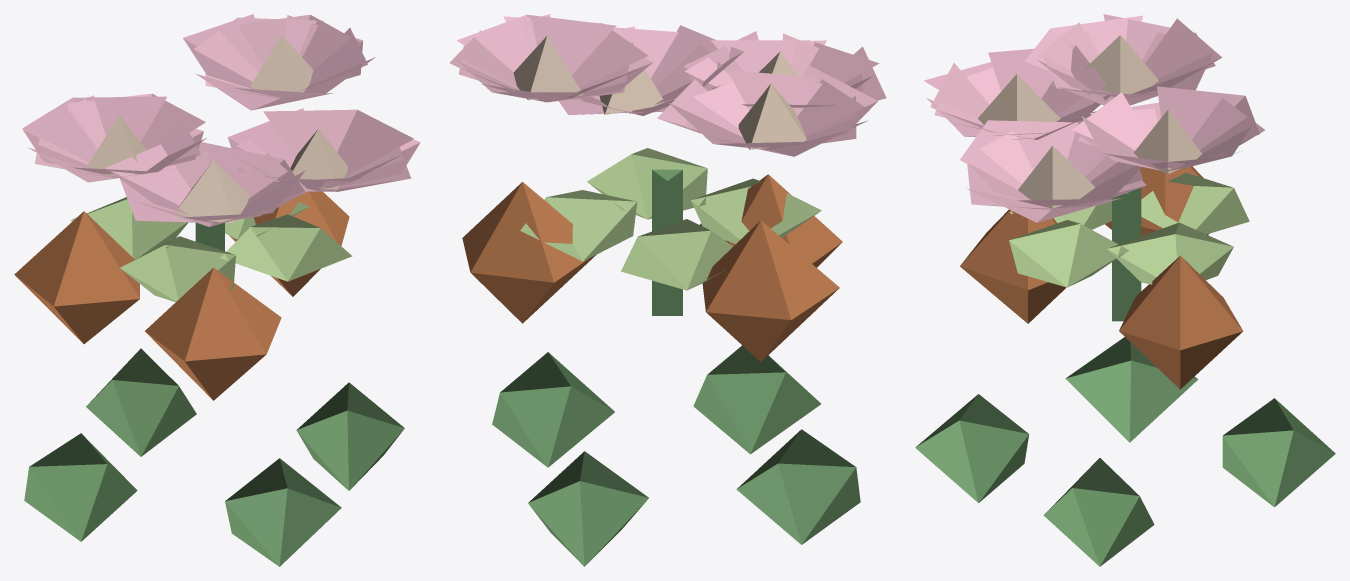
The model's file is shui.lian__summer.glb.
The picture shows the model from 3 angles, left to right: view 1: azimuth 30°, elevation 25°; view 2: azimuth 150°, elevation 25°; view 3: azimuth 270°, elevation 25°; orthographic projection. The views are drawn at different scales.
Visible parts, largest first — view 1: shui.lian__summer; view 2: shui.lian__summer; view 3: shui.lian__summer.
Part boxes in pixels (<box>): shui.lian__summer: <box>14,14,420,566</box>; shui.lian__summer: <box>449,14,886,566</box>; shui.lian__summer: <box>915,14,1335,566</box>.
Size of the model in its own units: 1.09 by 1.27 by 1.09.
